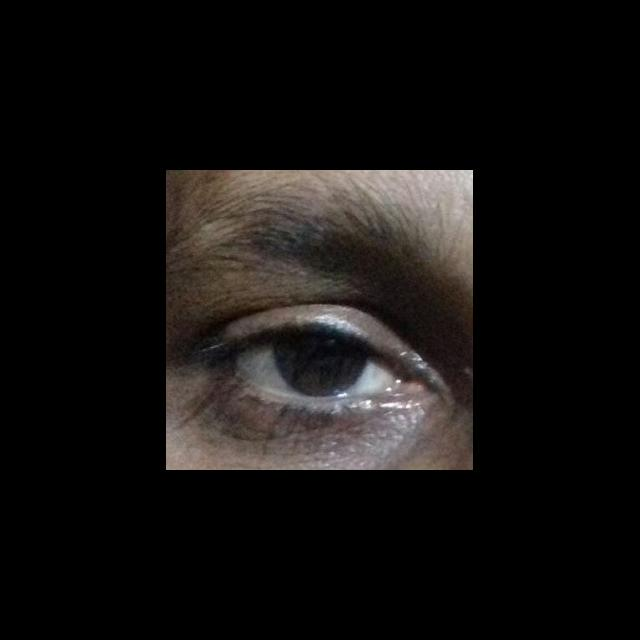eye: (233, 327, 402, 399)
iris: (273, 333, 370, 395)
